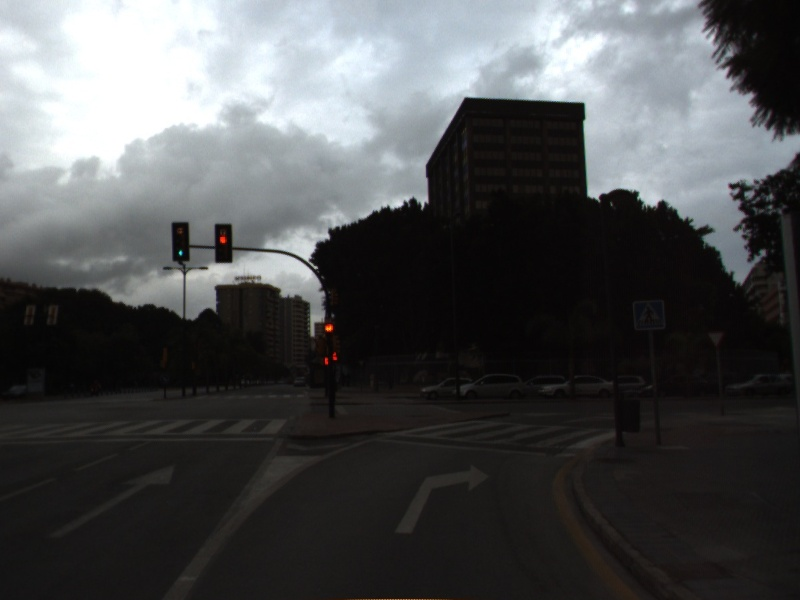RIGHT: (390, 460, 495, 538)
STRAIGHT: (46, 458, 178, 542)
